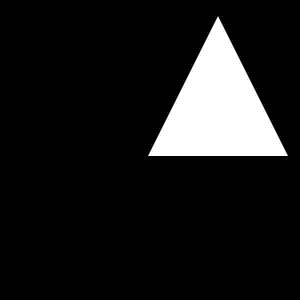triangle: (148, 16, 288, 156)
